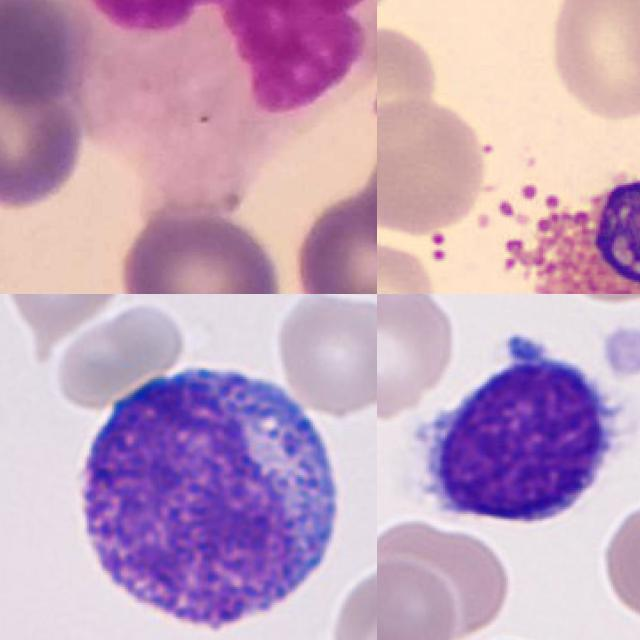Eosinophil: (484, 156, 640, 294)
Lymphocyte: (62, 349, 355, 640), (387, 328, 640, 541)
Monocyte: (70, 0, 377, 214)
Platelets: (597, 321, 640, 382)
RBC: (377, 512, 511, 640), (377, 93, 493, 237), (48, 297, 192, 411), (272, 294, 377, 420), (544, 0, 640, 124), (377, 294, 459, 420), (377, 19, 443, 146), (377, 555, 459, 640), (595, 495, 640, 627), (0, 294, 135, 334)
